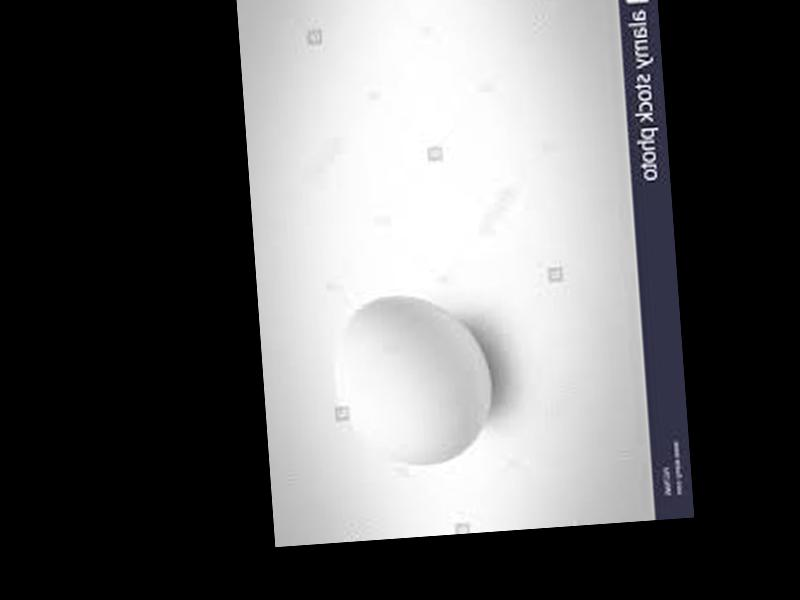Eggs: (332, 291, 497, 473)
